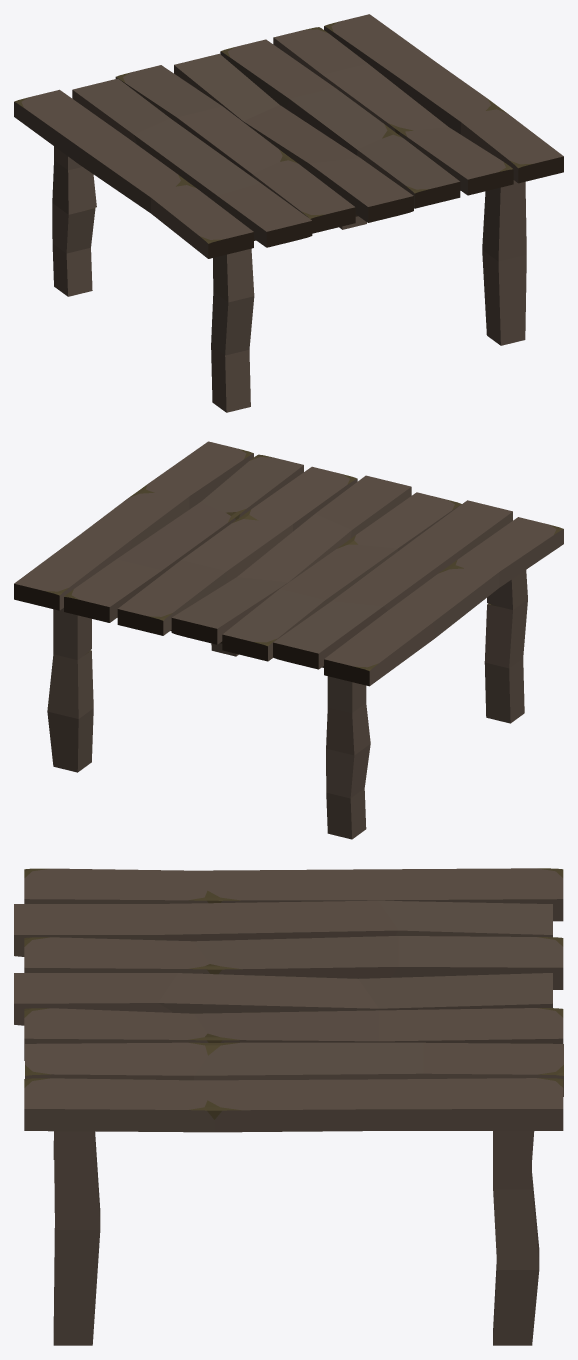
The model's file is Table.fbx.
The picture shows the model from 3 angles, top to bottom: view 1: azimuth 30°, elevation 25°; view 2: azimuth 150°, elevation 25°; view 3: azimuth 270°, elevation 25°; orthographic projection. The views are drawn at different scales.
Parts seen in each view (by area): view 1: CoffeeTable.002; view 2: CoffeeTable.002; view 3: CoffeeTable.002.
Part boxes in pixels (<box>): CoffeeTable.002: <box>14,14,563,412</box>; CoffeeTable.002: <box>14,441,563,839</box>; CoffeeTable.002: <box>14,868,563,1345</box>.
Bounding box in the file's own units: 2.11 × 1.05 × 2.03.
